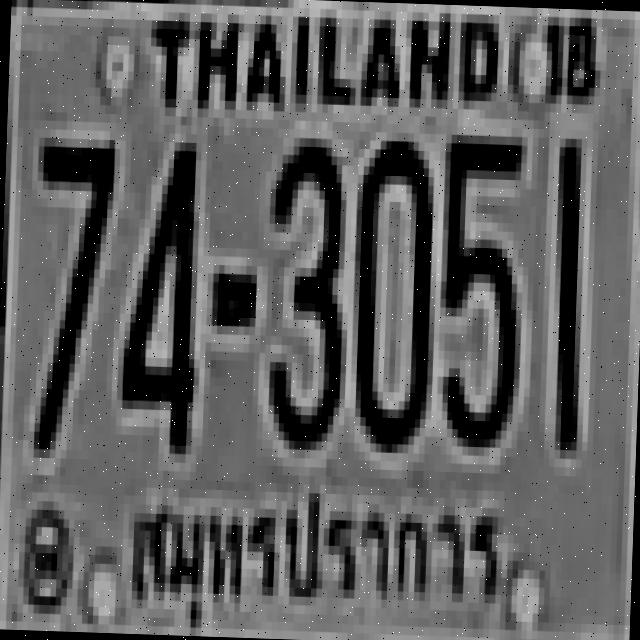0: (348, 131, 435, 445)
1: (546, 134, 584, 446)
3: (261, 136, 348, 442)
4: (115, 132, 202, 446)
5: (436, 130, 522, 443)
7: (28, 133, 115, 447)
SamutPrakan: (121, 473, 501, 640)
